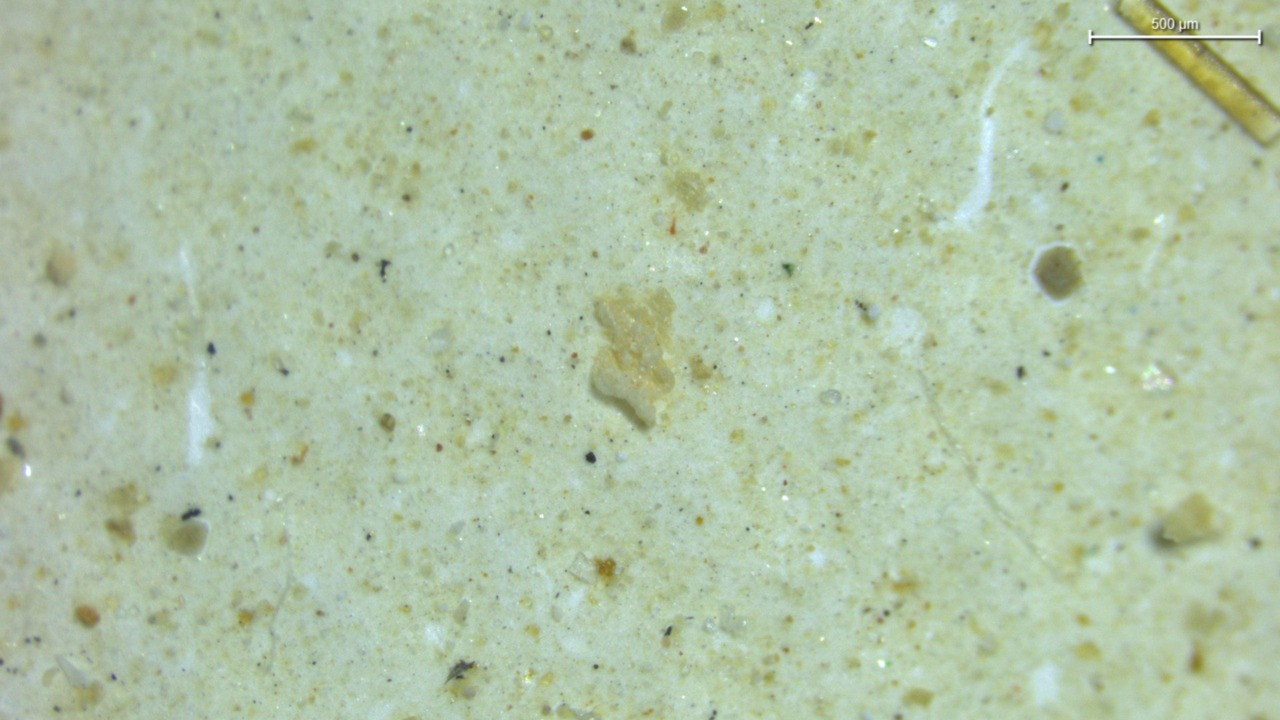microplastic_fragment: (590, 287, 675, 426)
